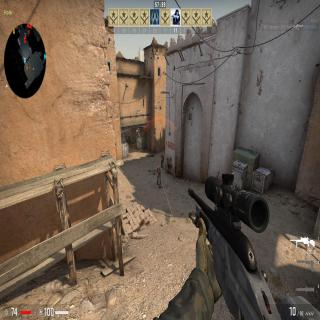T-Body: (156, 164, 161, 184), (160, 152, 164, 167), (135, 128, 139, 140), (128, 132, 131, 144)
T-Head: (161, 152, 163, 156), (158, 165, 159, 169), (128, 132, 130, 134), (136, 129, 138, 130)
